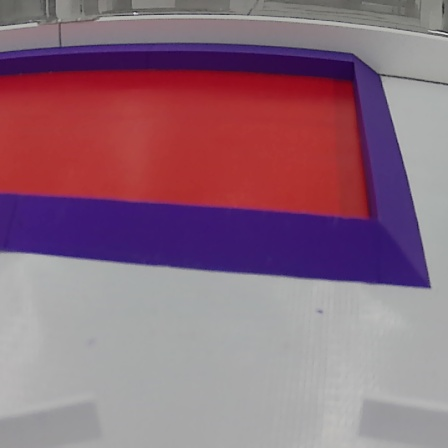red_aim: (1, 44, 431, 302)
